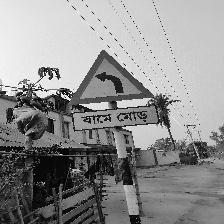Left-Turn: (66, 51, 159, 132)
